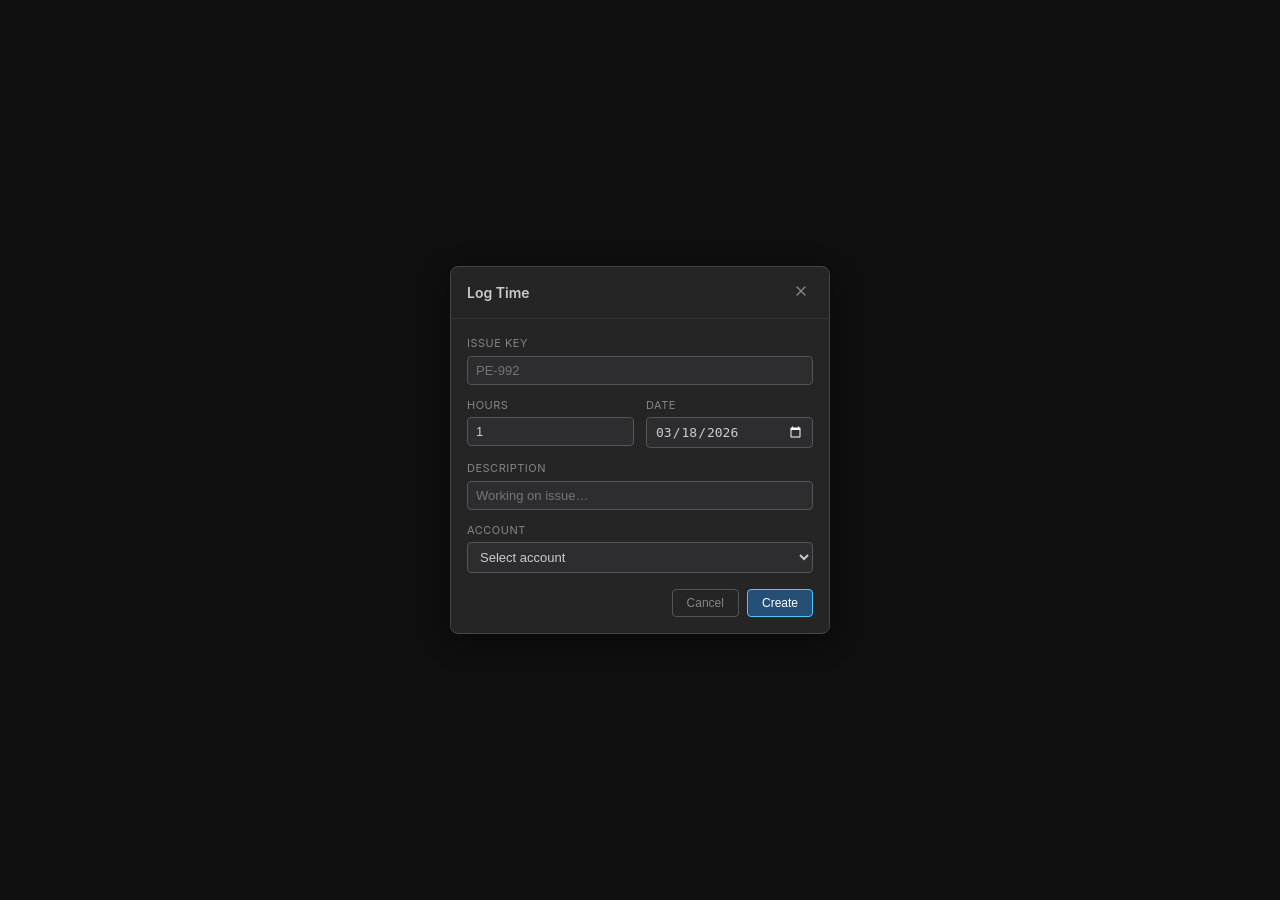
TempoWorklogEditor › loads project accounts after the issue key debounce and auto-selects the default
This screenshot has width=1280, height=900.
Type "pe-992" into the field labelled "Issue Key" at (640, 370), box [467,356,813,384]
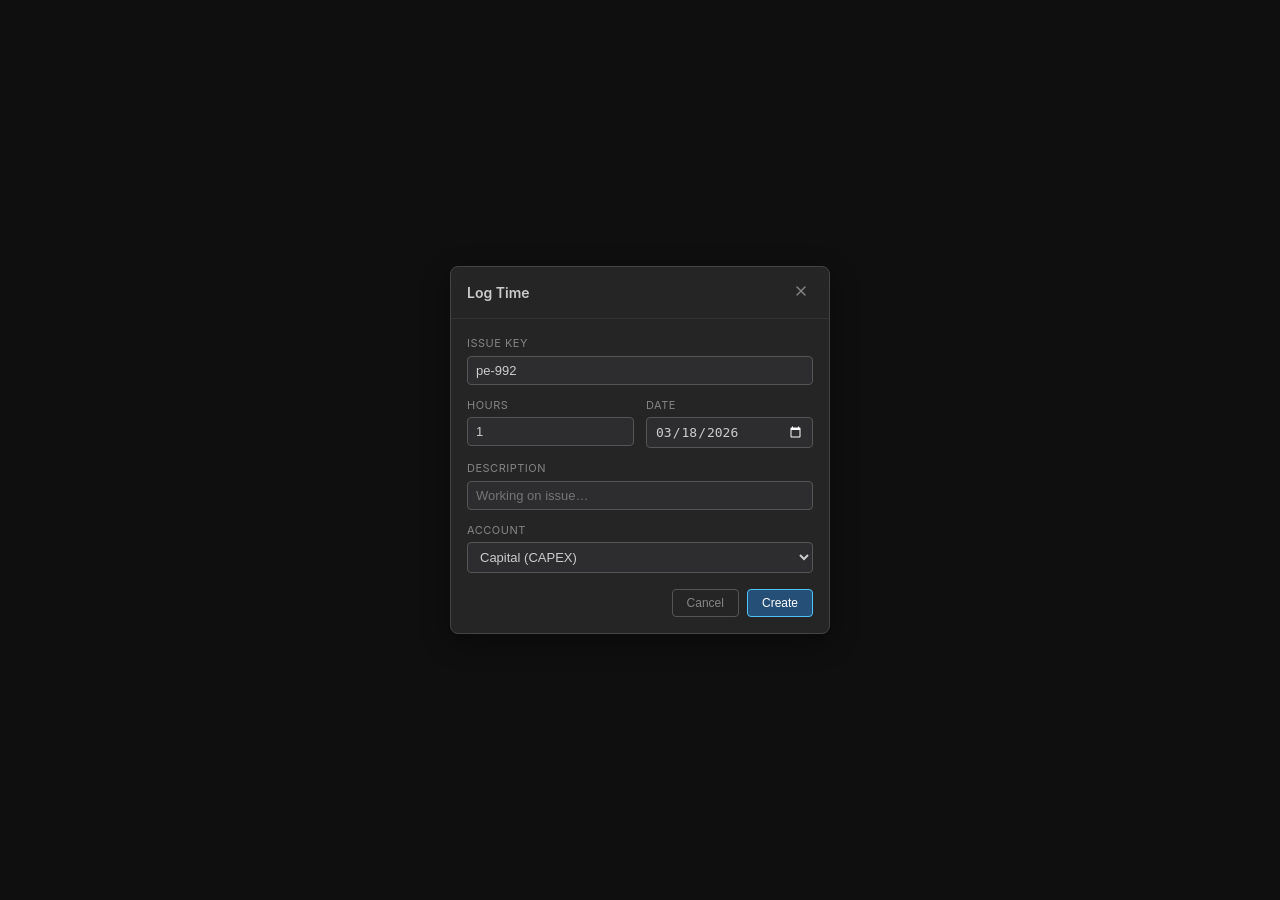
Expected: the dropdown labelled "Account" shows "Capital (CAPEX)", [467,542,813,573]
